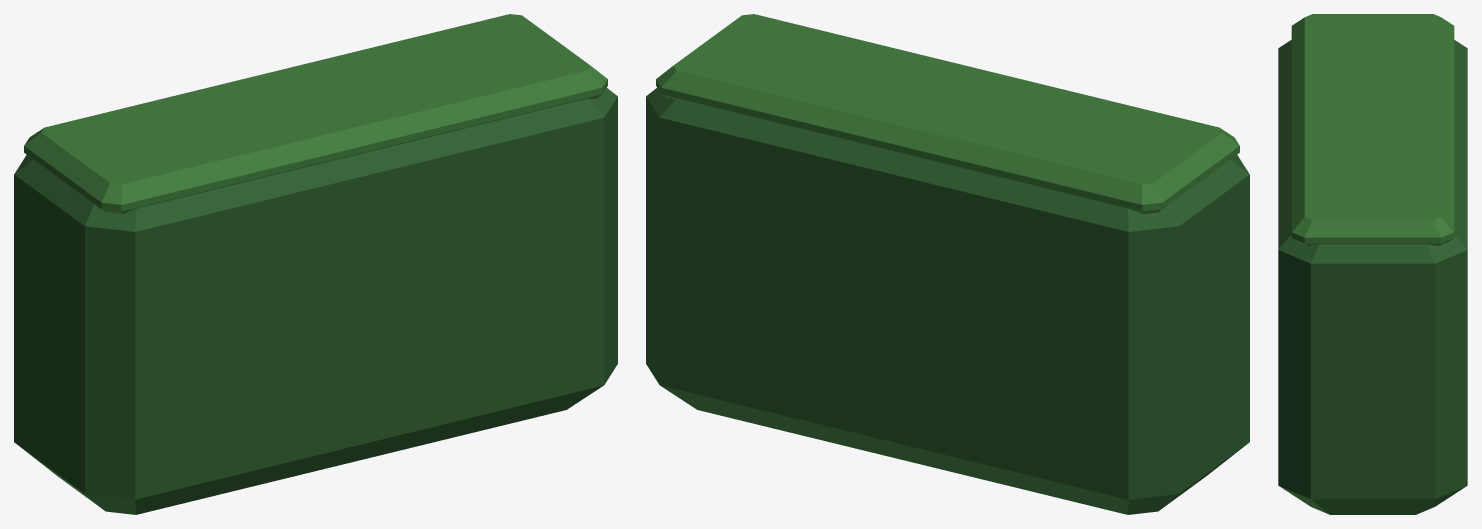
Rendered from hedge_2m.glb.
3 views of the same model, side by side, from view 1: azimuth 30°, elevation 25°; view 2: azimuth 150°, elevation 25°; view 3: azimuth 270°, elevation 25° (orthographic). The views are drawn at different scales.
Visible parts, largest first — view 1: hedge_2m; view 2: hedge_2m; view 3: hedge_2m.
Boxes of the visible parts, x1,y1,x2,y2 form: hedge_2m: (14, 14, 617, 514); hedge_2m: (646, 14, 1249, 514); hedge_2m: (1278, 14, 1467, 514).
Size of the model in its own units: 2 by 1.21 by 0.7.
